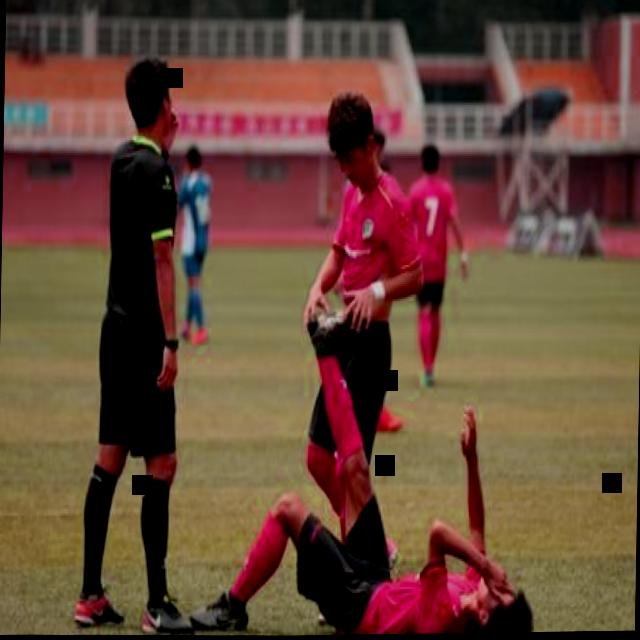Fall-Detected: (182, 331, 556, 638)
